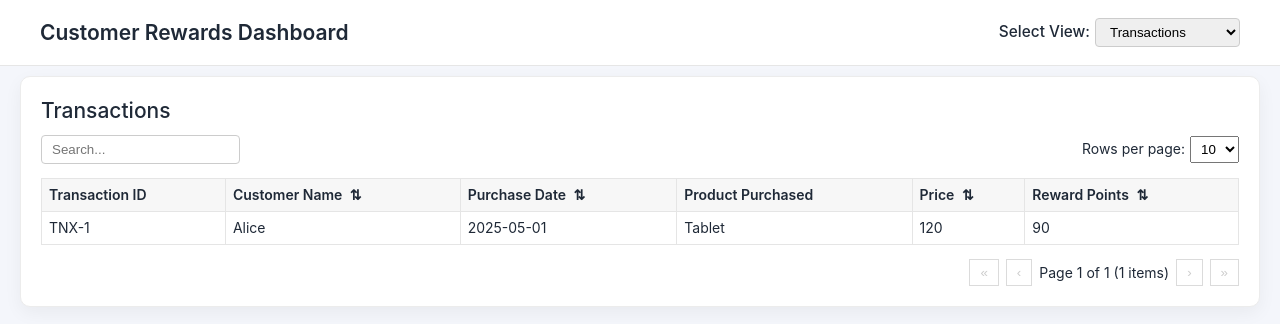
Test case: App › shows Total Rewards columns after selecting that view
The image size is (1280, 324).
Select "Total Rewards" in the dropdown labelled "Select View:" at [1168, 32], box x1=1095 y1=18 x2=1240 y2=47
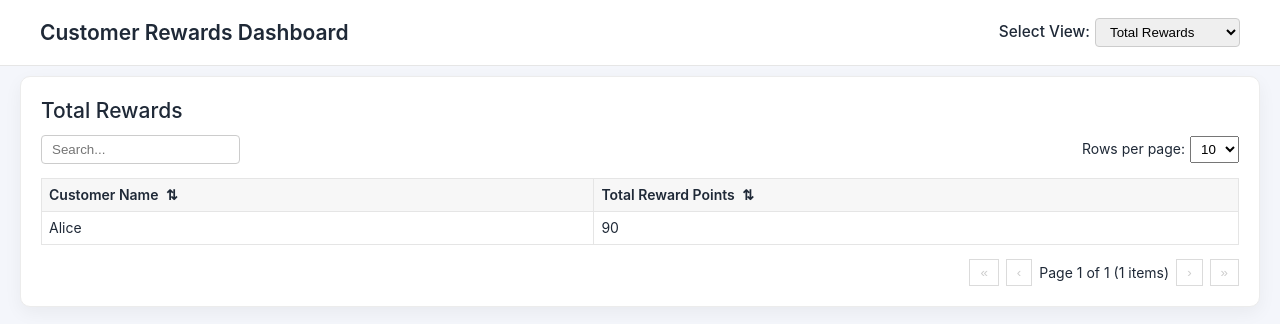
Result: the text "Total Reward Points" is shown at x1=601 y1=186 x2=735 y2=203
